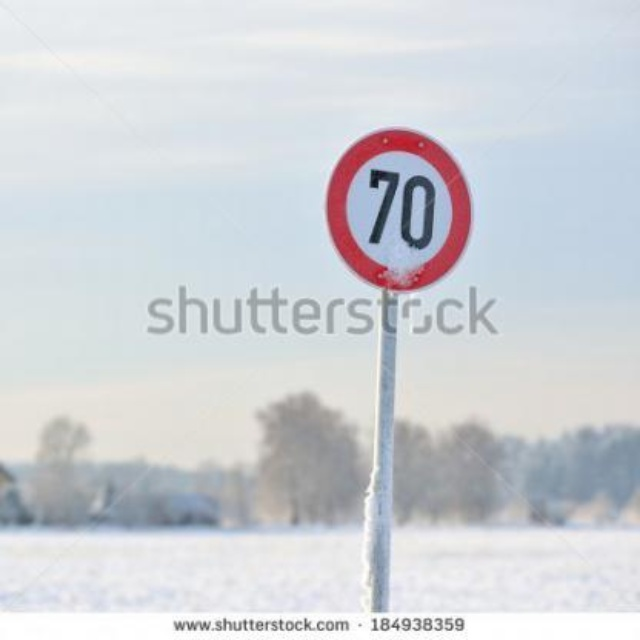Tốc độ tối đa cho phép 70km/h: (330, 124, 470, 290)
